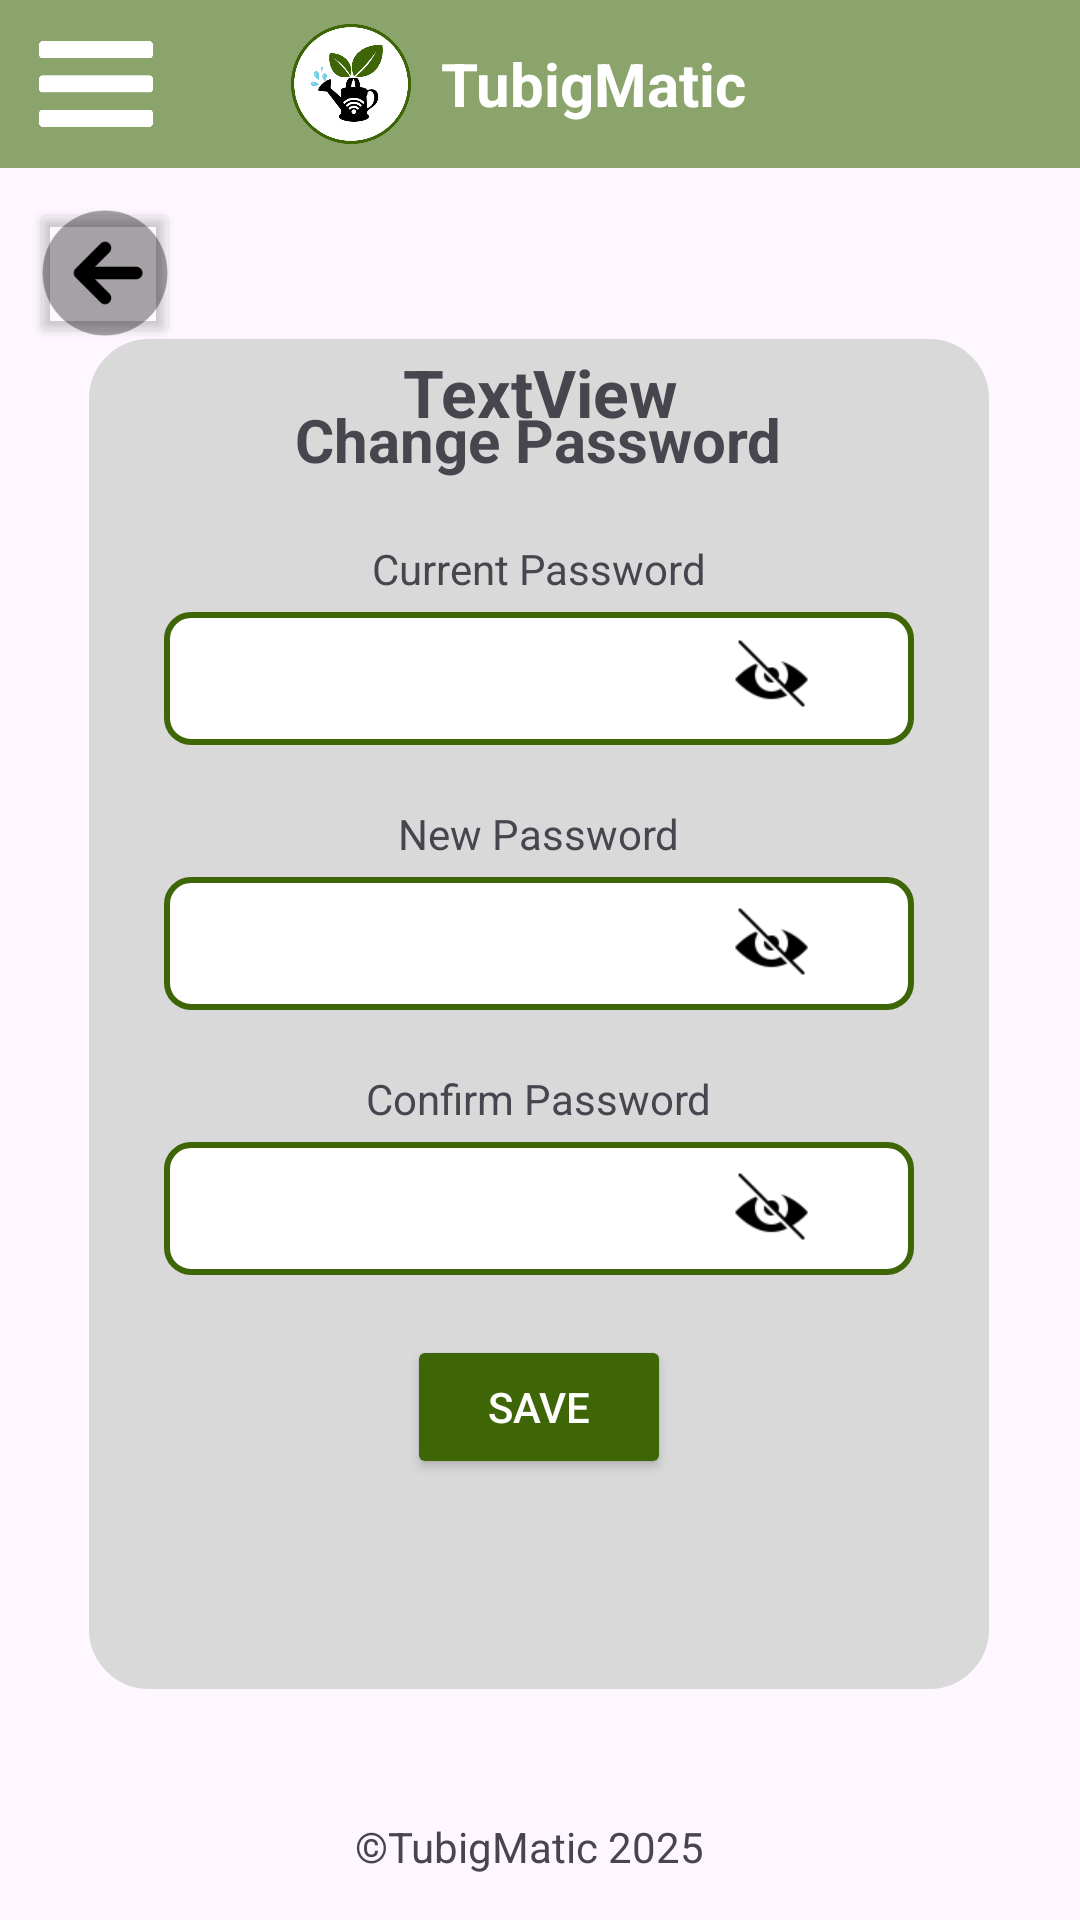

Locate icon controls on the screen. Image size 1080x1920, boxes as (x1,y1,x2,y2).
backbutton: (41,210,168,336)
hidepassword: (735,640,808,707), (735,908,808,975), (735,1173,808,1240)
menu: (39,41,153,127)
